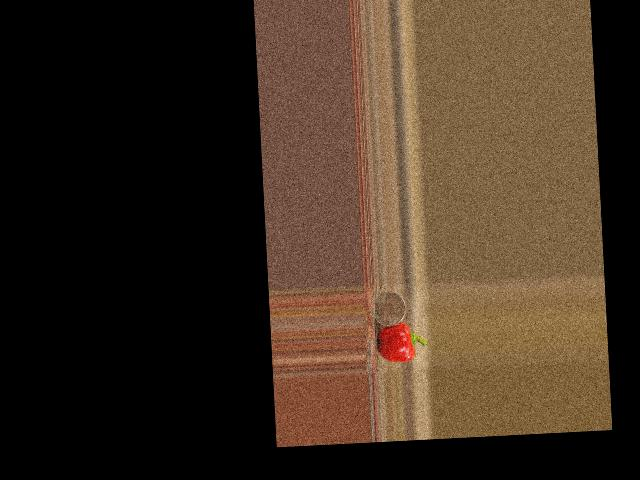bell_pepper: (375, 323, 427, 363)
